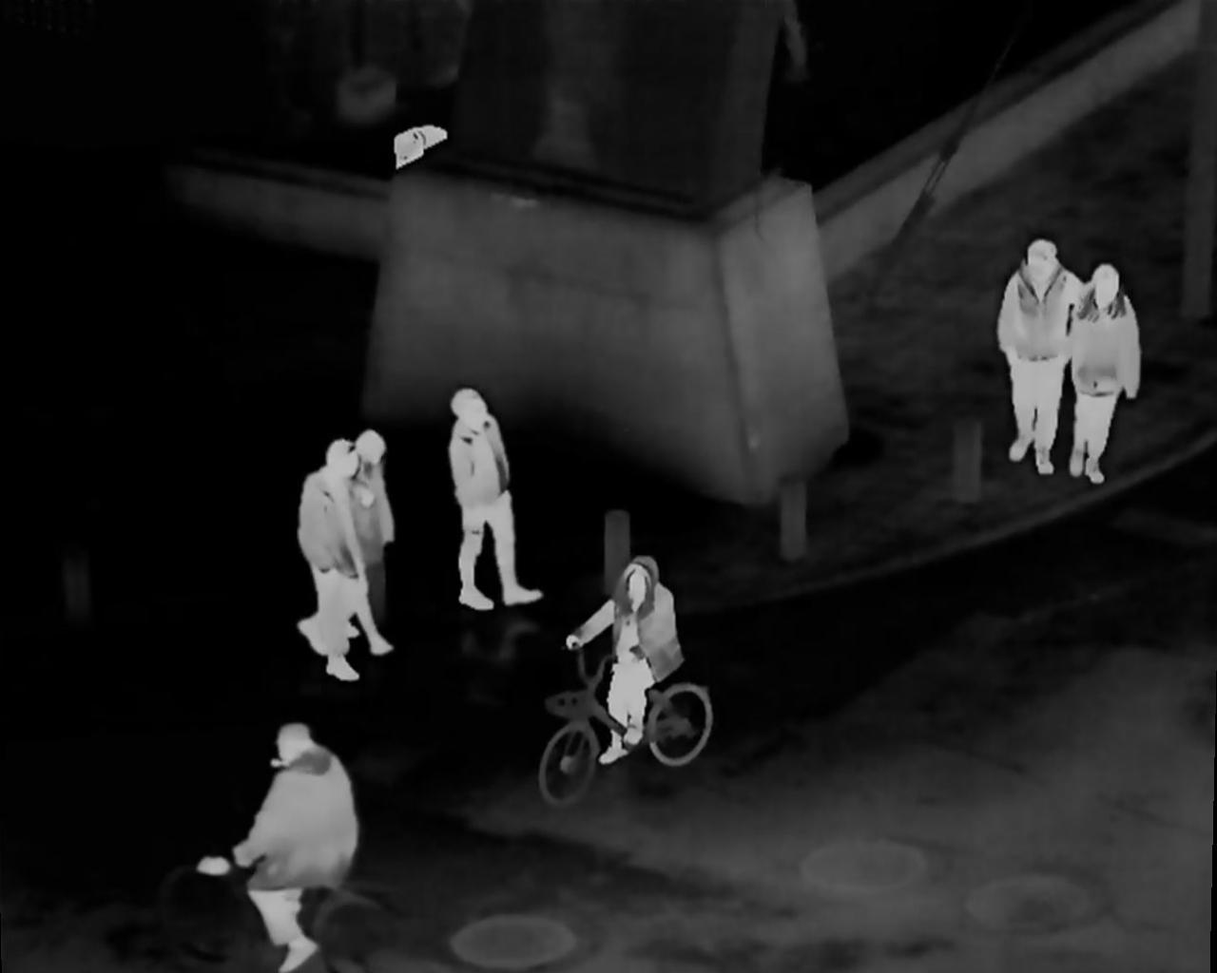person: (227, 728, 357, 973), (432, 387, 557, 613), (564, 552, 687, 779), (993, 237, 1085, 465), (302, 439, 377, 676), (1062, 265, 1140, 486), (354, 436, 408, 657)
